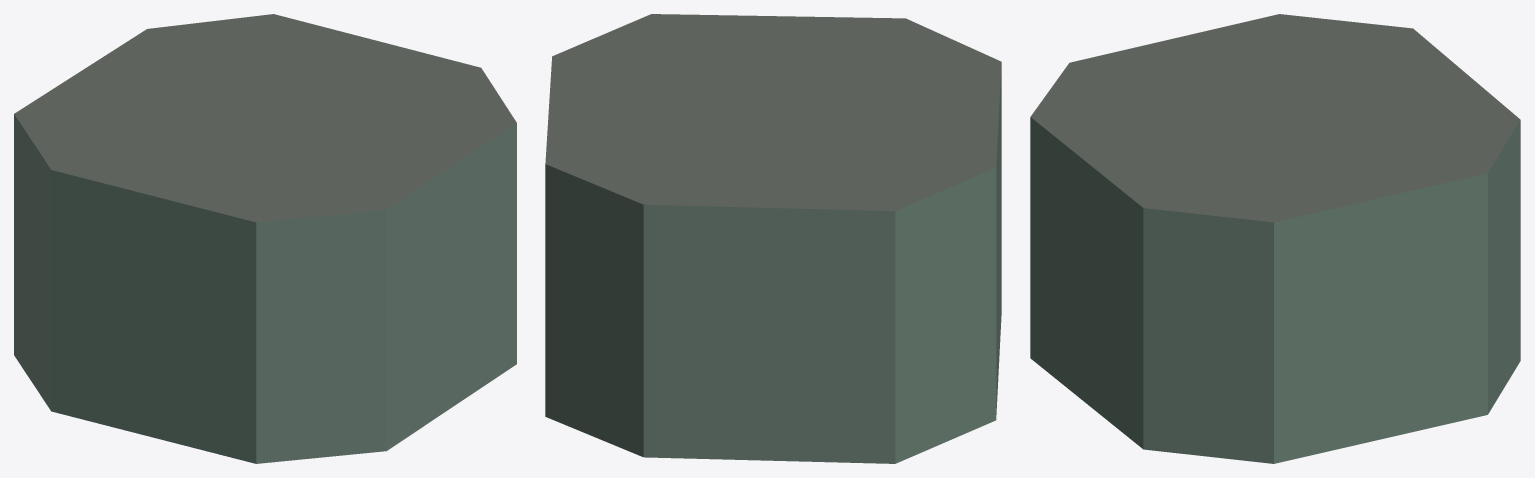
File: nyc-1085593-0.glb
3 views of the same model, side by side, from view 1: azimuth 30°, elevation 25°; view 2: azimuth 150°, elevation 25°; view 3: azimuth 270°, elevation 25° (orthographic). The views are drawn at different scales.
Visible parts, largest first — view 1: nyc-1085593-0; view 2: nyc-1085593-0; view 3: nyc-1085593-0.
Part boxes in pixels (x1,y1,x2,y2): nyc-1085593-0: (14, 14, 516, 463); nyc-1085593-0: (545, 14, 1001, 463); nyc-1085593-0: (1030, 14, 1520, 463).
Bounding box in the file's own units: 6.2 × 3.35 × 6.16.
